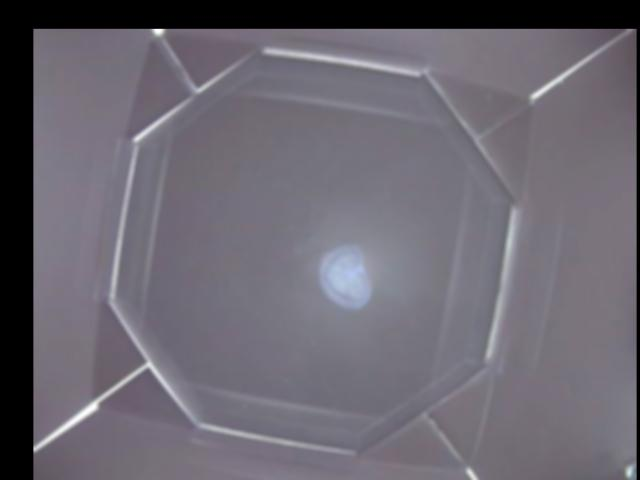Pebble: (321, 245, 367, 305)
